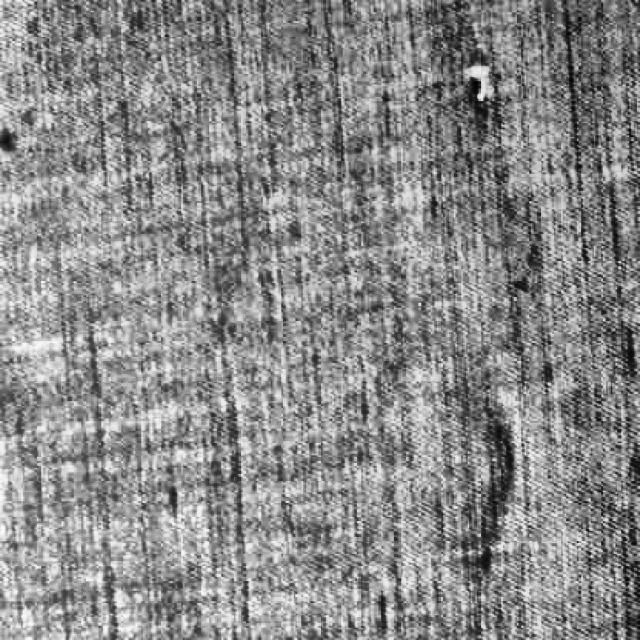hole: (458, 55, 504, 106)
